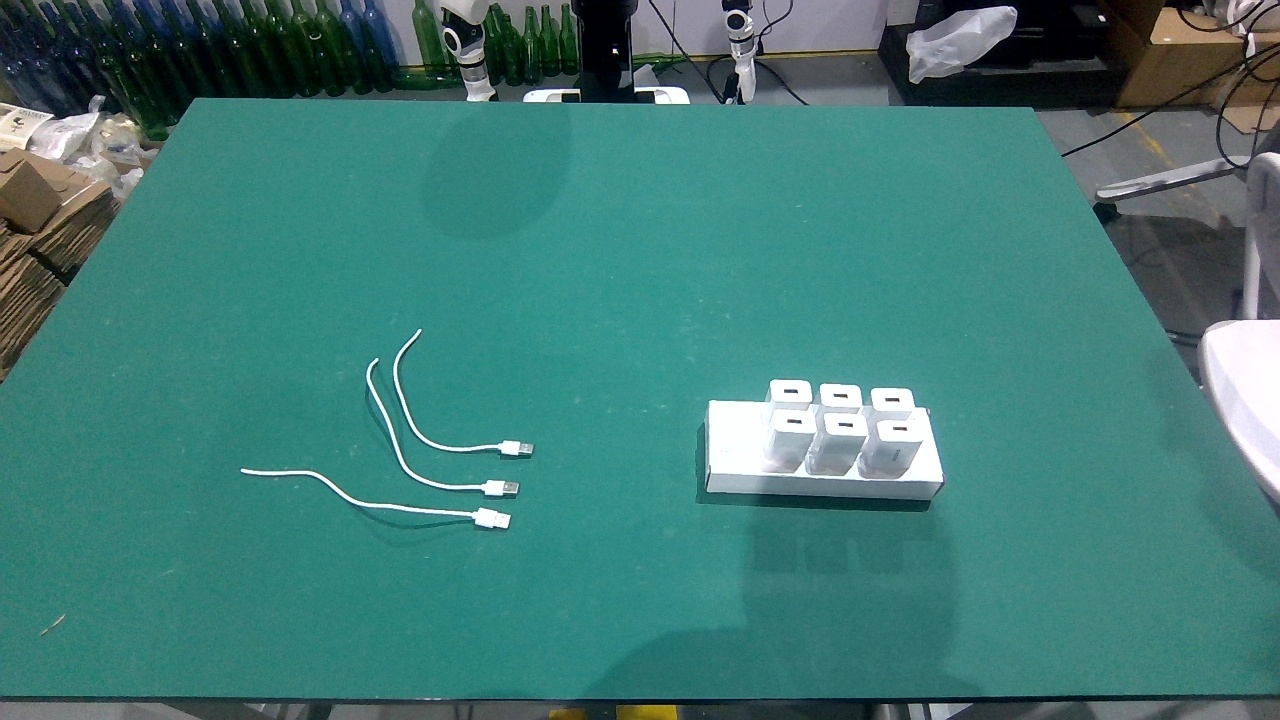usb_a_port: (786, 416, 804, 426), (832, 392, 849, 401), (836, 422, 855, 430), (890, 425, 910, 432), (782, 387, 799, 395), (882, 397, 904, 402)
